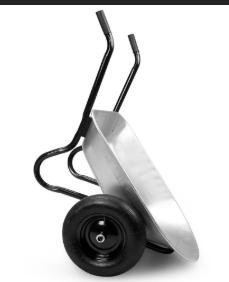BROUETTE: (28, 6, 226, 282)
